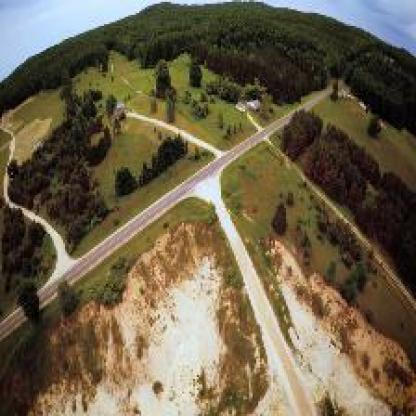other: (272, 240, 355, 404), (123, 266, 222, 401), (187, 172, 234, 226)
